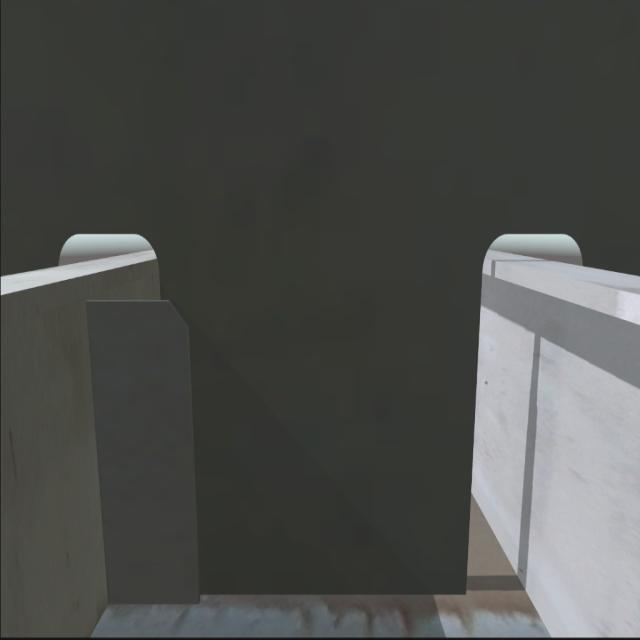fillet_yong_jeop_jang: (106, 583, 468, 614)
longi_yong_jeop_jang: (78, 296, 120, 605)
plate_CP03: (86, 299, 198, 601)
